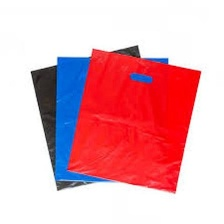plastic_bag: (63, 47, 207, 195), (28, 42, 148, 194), (49, 51, 174, 186)
